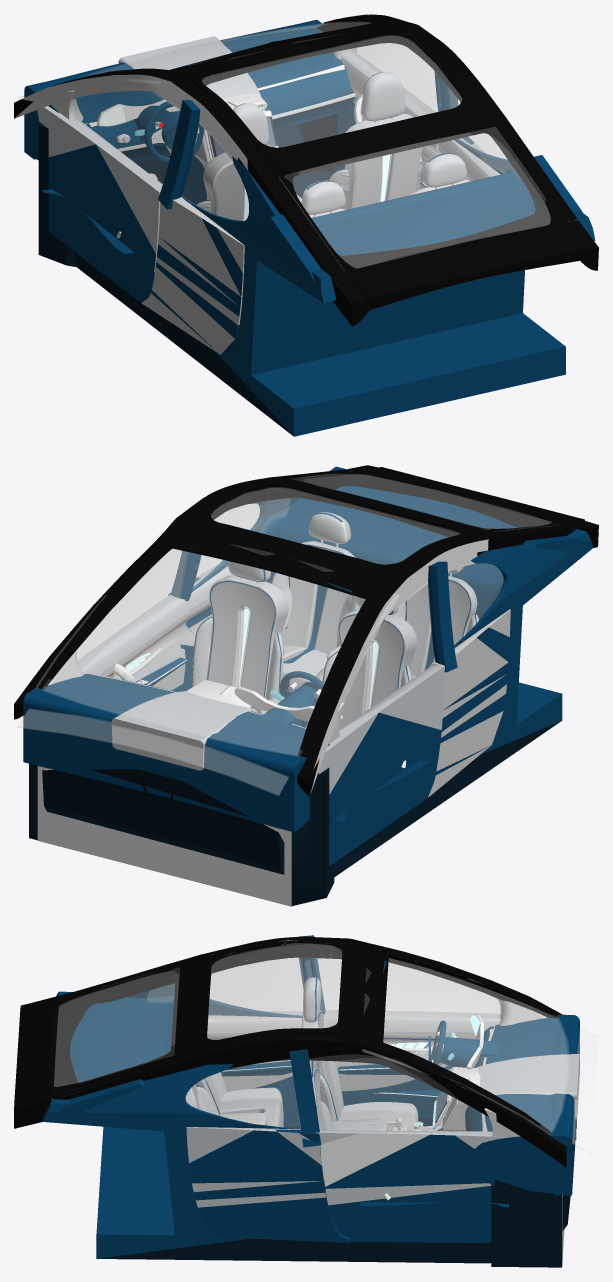
File: innenraum_lod1.glb
3 renders of one model, top to bottom at view 1: azimuth 30°, elevation 25°; view 2: azimuth 150°, elevation 25°; view 3: azimuth 270°, elevation 25°, orthographic. The views are drawn at different scales.
Parts seen in each view (by area): view 1: Innen_Leder_blau, Innen_Glas, Innen_Alcantara, Innen_Leder_weiss, Innen_Sitz_Naht, Innen_Teppich, Innen_Kunststoff_02, Lenkrad, Innen_Metall_satin, Innen_Kunststoff_01; view 2: Innen_Glas, Innen_Leder_blau, Innen_Leder_weiss, Innen_Alcantara, Innen_Teppich, Innen_Metall_satin, Innen_Sitz_Naht, Innen_Kunststoff_02, Innen_Material_2537, Lenkrad, Innen_Kunststoff_01; view 3: Innen_Leder_blau, Innen_Glas, Innen_Alcantara, Innen_Leder_weiss, Innen_Teppich, Innen_Sitz_Naht, Innen_Kunststoff_02, Innen_Metall_satin, Lenkrad.
Part boxes in pixels (x1,y1,x2,y2): Innen_Leder_blau: [24, 19, 595, 436]; Innen_Glas: [19, 14, 550, 268]; Innen_Alcantara: [14, 14, 598, 326]; Innen_Leder_weiss: [37, 36, 500, 271]; Innen_Sitz_Naht: [52, 48, 356, 354]; Innen_Teppich: [38, 113, 337, 435]; Innen_Kunststoff_02: [14, 74, 453, 220]; Lenkrad: [144, 101, 203, 164]; Innen_Metall_satin: [97, 94, 438, 238]; Innen_Kunststoff_01: [99, 105, 390, 220]; Innen_Glas: [17, 474, 551, 795]; Innen_Leder_blau: [23, 466, 593, 866]; Innen_Leder_weiss: [77, 512, 478, 794]; Innen_Alcantara: [14, 465, 598, 796]; Innen_Teppich: [29, 721, 561, 906]; Innen_Metall_satin: [37, 623, 406, 906]; Innen_Sitz_Naht: [48, 609, 510, 797]; Innen_Kunststoff_02: [129, 539, 488, 794]; Innen_Material_2537: [207, 544, 471, 697]; Lenkrad: [279, 671, 323, 702]; Innen_Kunststoff_01: [126, 608, 378, 708]; Innen_Leder_blau: [42, 935, 579, 1258]; Innen_Glas: [54, 943, 598, 1153]; Innen_Alcantara: [14, 936, 566, 1166]; Innen_Leder_weiss: [185, 977, 579, 1207]; Innen_Teppich: [97, 1119, 576, 1267]; Innen_Sitz_Naht: [207, 999, 546, 1137]; Innen_Kunststoff_02: [212, 936, 560, 1186]; Innen_Metall_satin: [384, 1014, 564, 1261]; Lenkrad: [428, 1020, 446, 1065].
Bounding box in the file's own units: 1.72 × 1.3 × 3.15.
